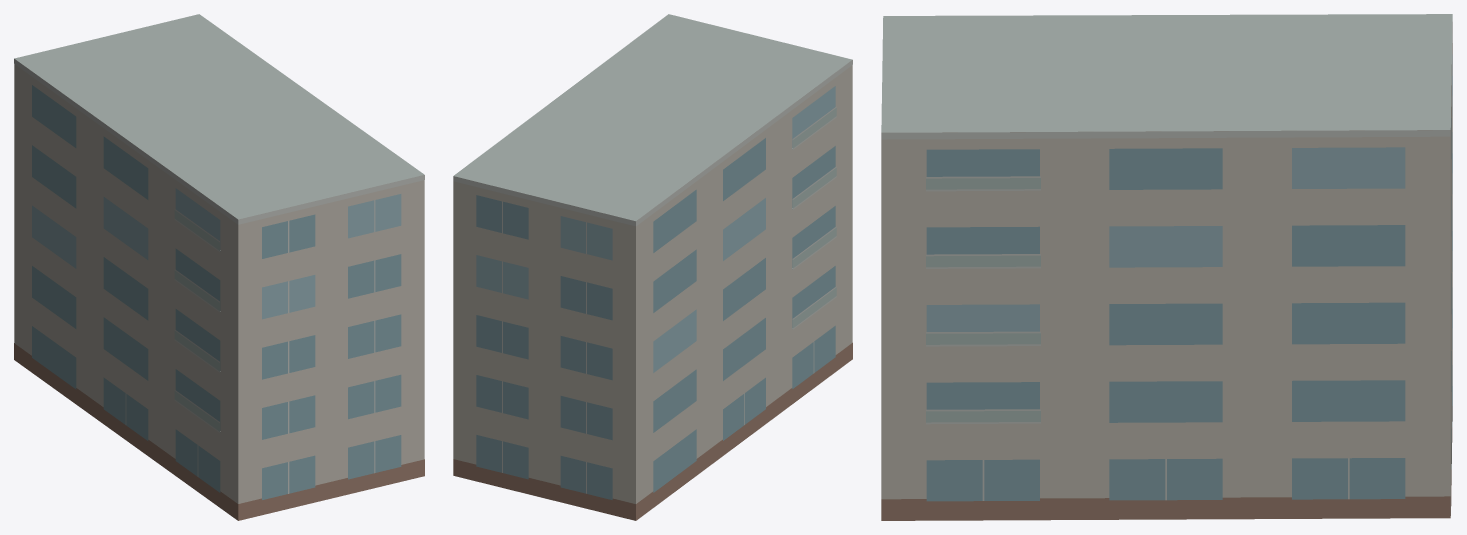
Rendered from survey-upis-32822154.glb.
The picture shows the model from 3 angles, left to right: view 1: azimuth 30°, elevation 25°; view 2: azimuth 150°, elevation 25°; view 3: azimuth 270°, elevation 25°; orthographic projection. The views are drawn at different scales.
Parts seen in each view (by area): view 1: survey-upis-32822154.tmp; view 2: survey-upis-32822154.tmp; view 3: survey-upis-32822154.tmp.
Part boxes in pixels (x1,y1,x2,y2): survey-upis-32822154.tmp: [14, 14, 424, 520]; survey-upis-32822154.tmp: [453, 14, 852, 520]; survey-upis-32822154.tmp: [881, 14, 1452, 520].
Bounding box in the file's own units: 9.21 × 14 × 18.69.
